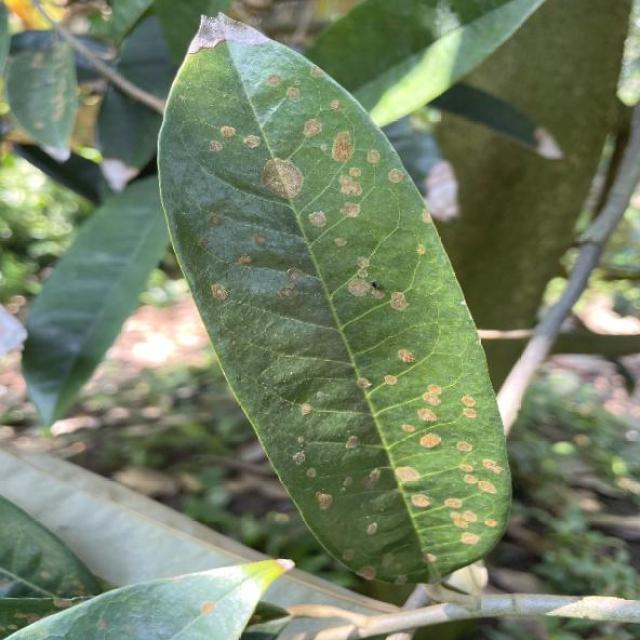Algal Leaf Spot: (130, 3, 548, 600)
